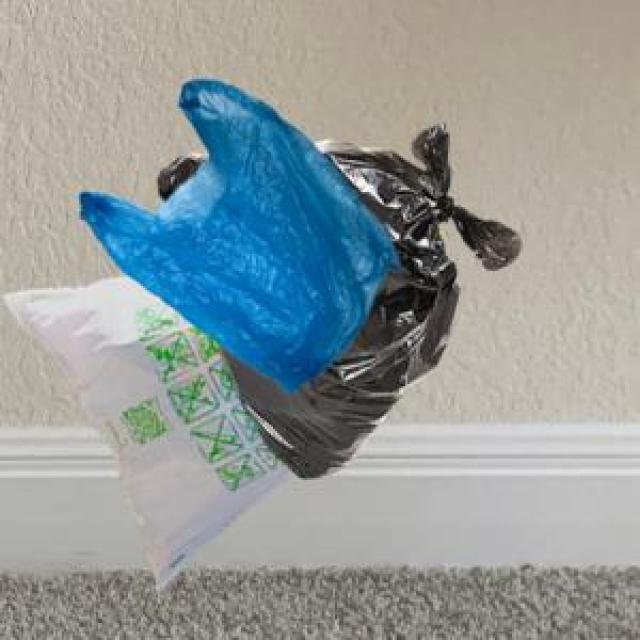miscellaneous trash: (156, 120, 516, 474)
